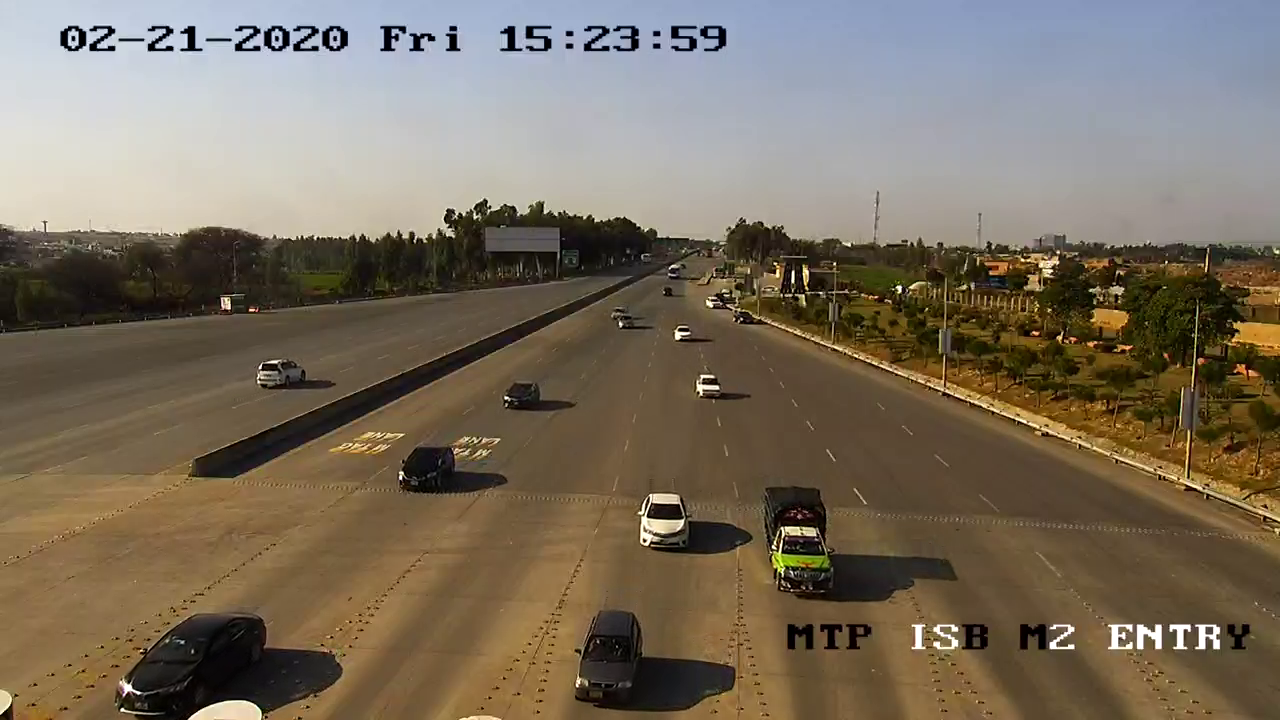f1: (752, 481, 852, 604), (558, 603, 656, 706), (630, 483, 700, 559), (390, 441, 465, 502)
